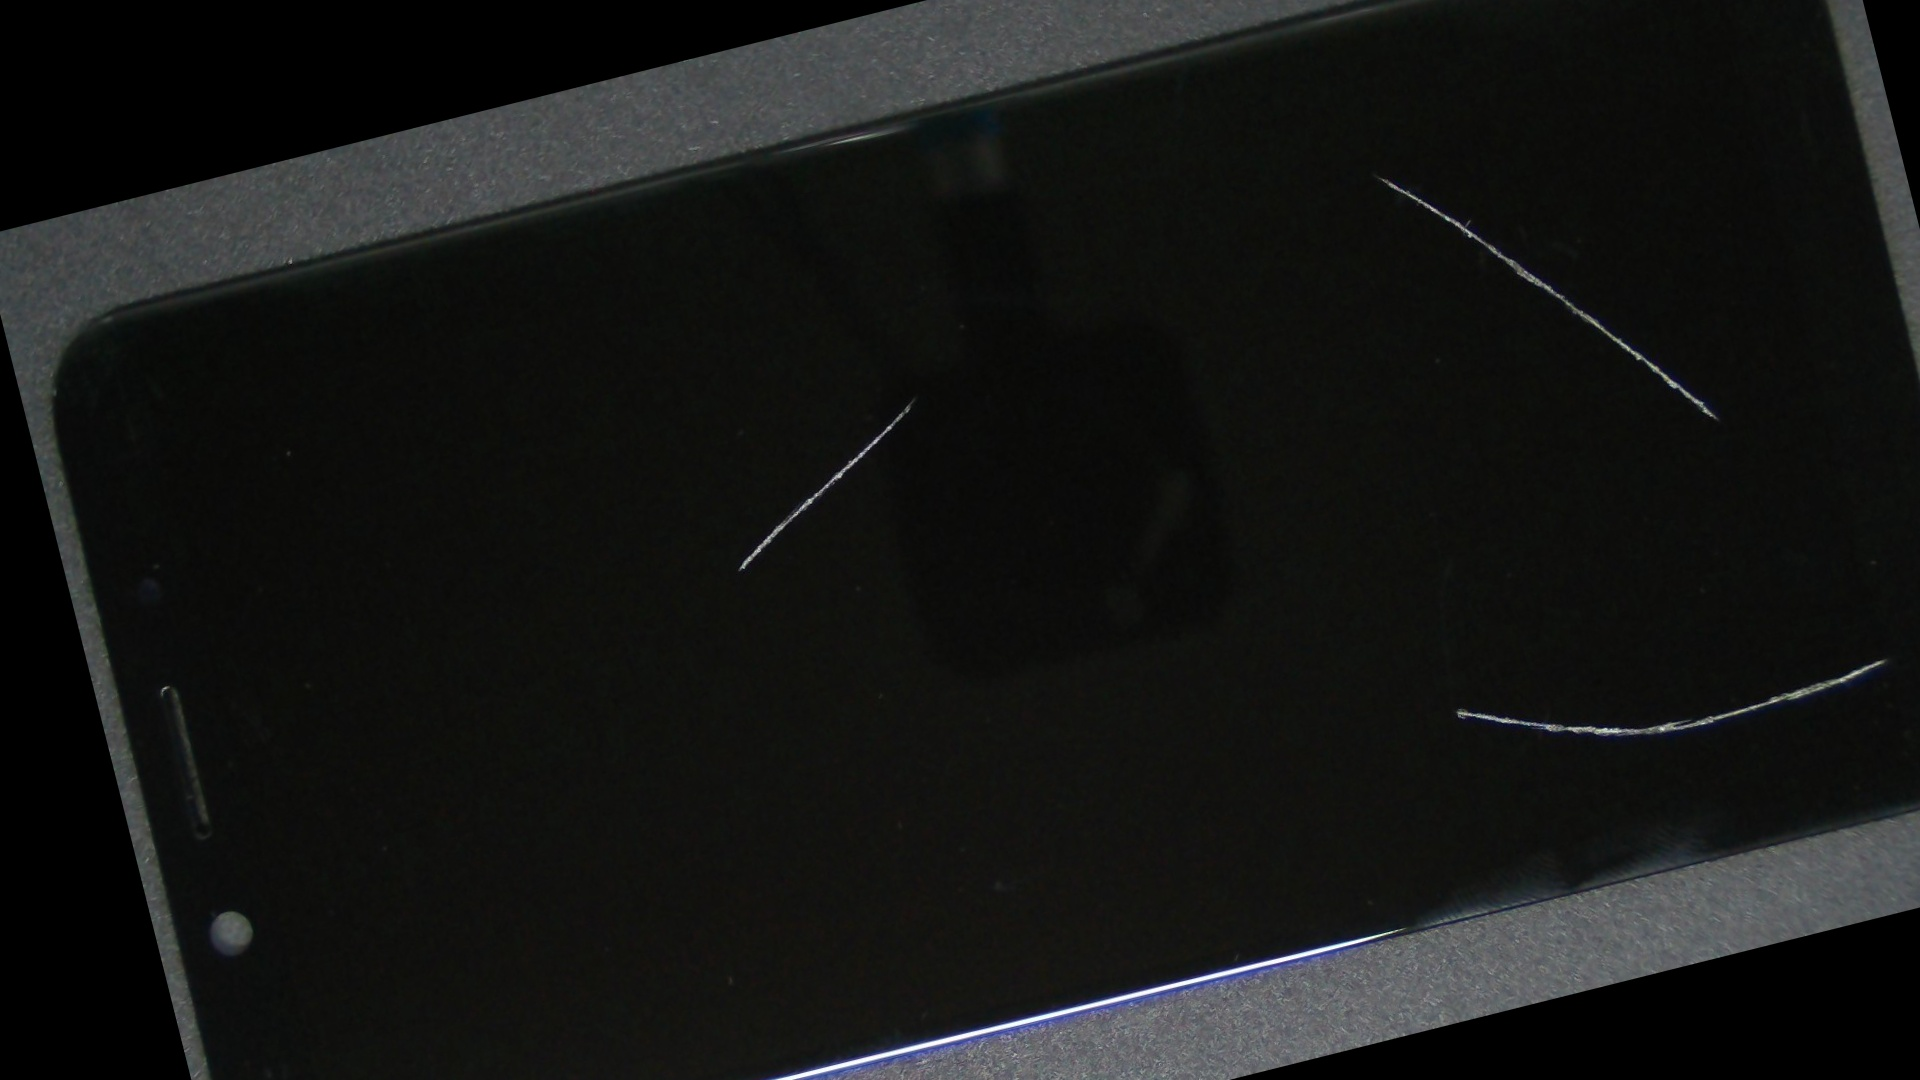oil: (720, 174, 1920, 1080), (680, 0, 1911, 481), (447, 107, 1379, 687)
